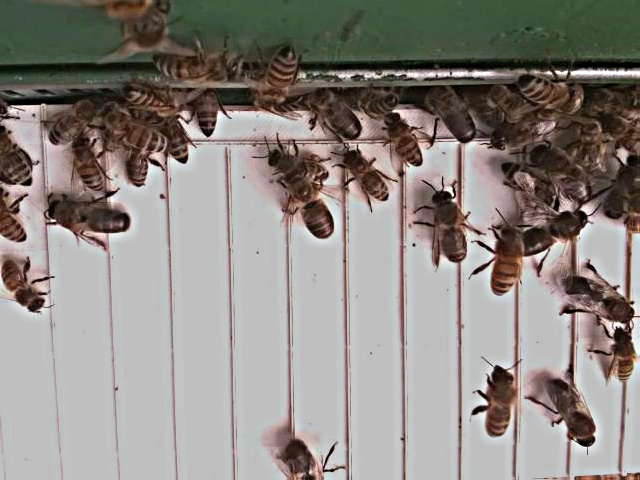Drone: (526, 144, 600, 208), (559, 276, 640, 327), (283, 168, 337, 242), (548, 377, 599, 452), (46, 197, 134, 238), (522, 209, 592, 259), (429, 190, 472, 267), (310, 88, 366, 145), (428, 86, 478, 148), (604, 156, 640, 224)
Worker: (517, 77, 589, 118), (106, 115, 169, 159), (1, 260, 48, 317), (48, 99, 100, 148), (343, 152, 391, 205), (490, 226, 522, 301), (484, 373, 518, 441), (0, 128, 35, 189), (262, 47, 298, 105), (386, 119, 426, 170), (72, 136, 106, 193), (610, 328, 638, 385)
